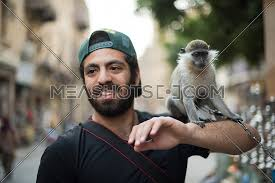middle_eastern_male: (84, 31, 148, 120)
